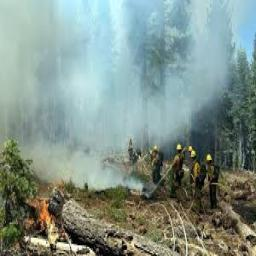Heavy smoke: (0, 0, 250, 193)
Small fire: (20, 180, 66, 249)
